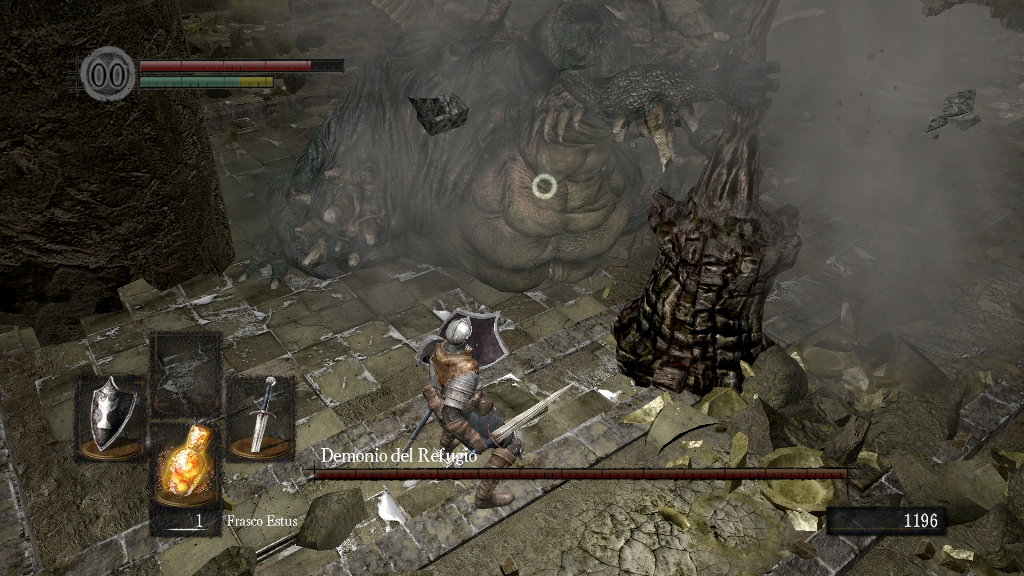asylumDemon: (234, 1, 810, 393)
bossHP: (314, 469, 847, 479)
health: (138, 58, 343, 71)
humanity: (80, 45, 136, 102)
player: (417, 305, 579, 513)
souls: (825, 506, 945, 536)
stamina: (138, 74, 274, 88)
